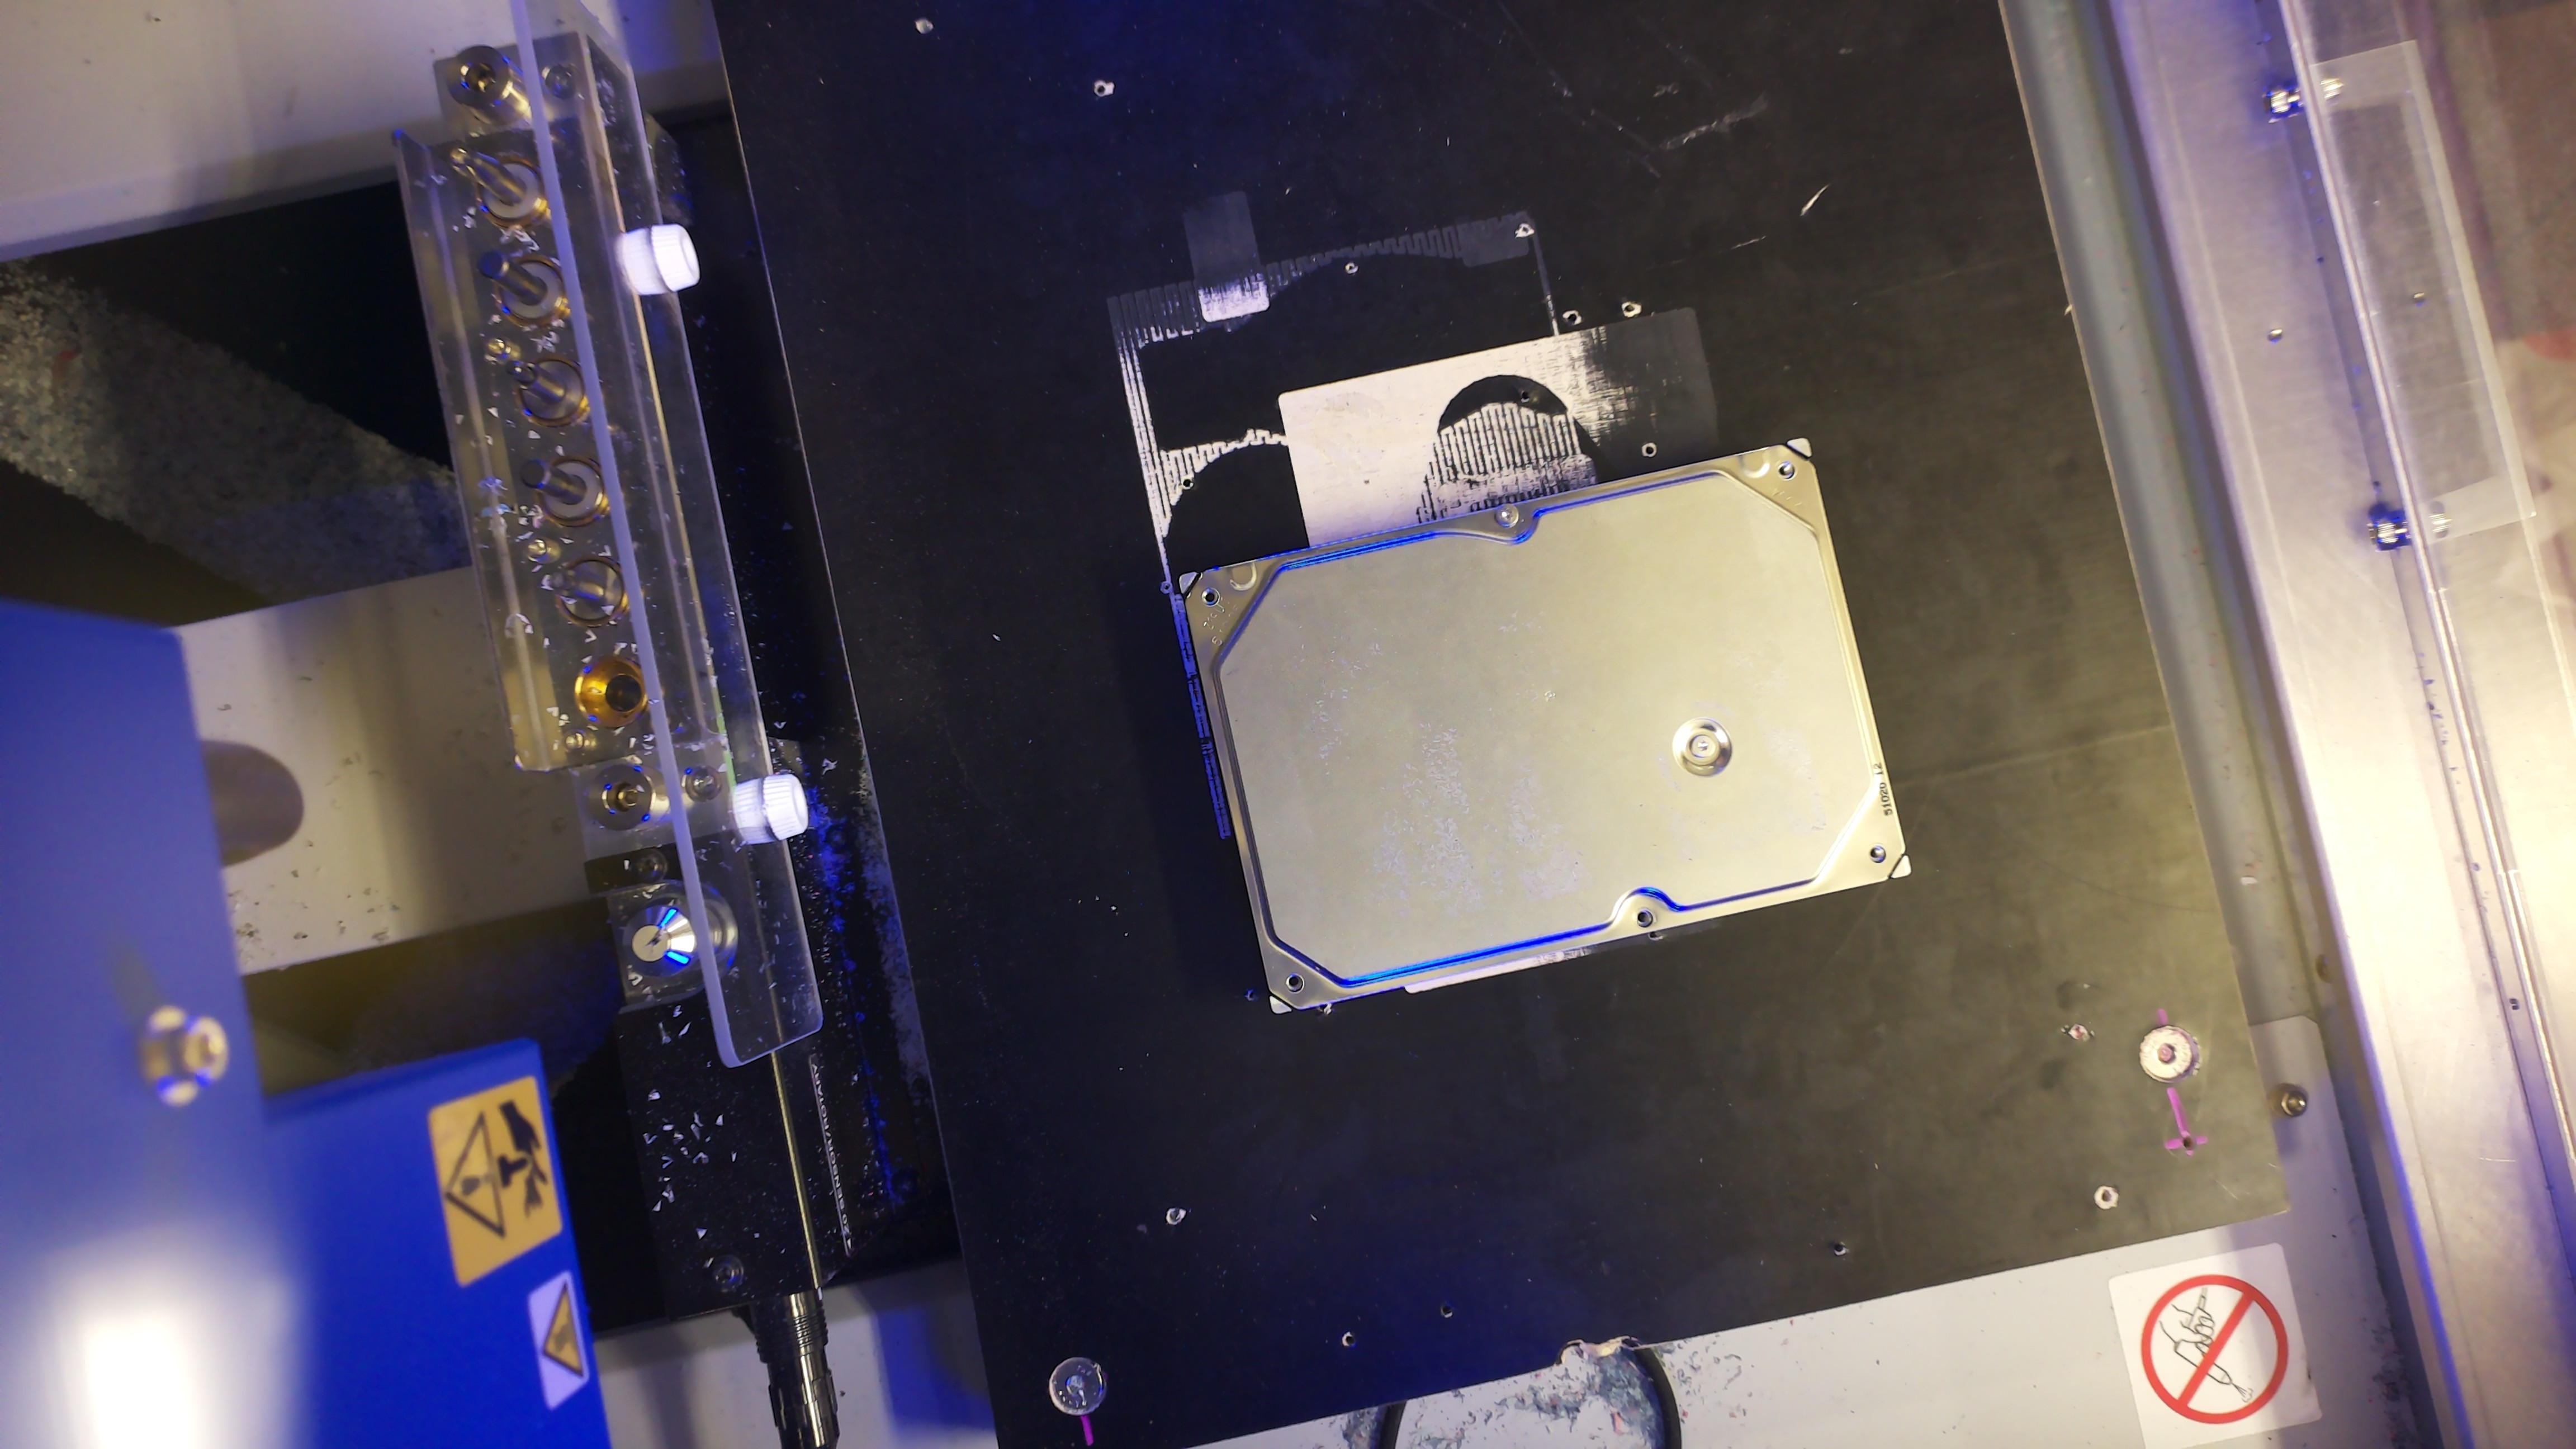Hole: (1776, 460, 1798, 481), (1284, 973, 1304, 993), (1201, 587, 1221, 607), (1635, 908, 1654, 927), (1868, 844, 1886, 863)
Screw: (1495, 502, 1520, 527), (1690, 734, 1714, 757)
